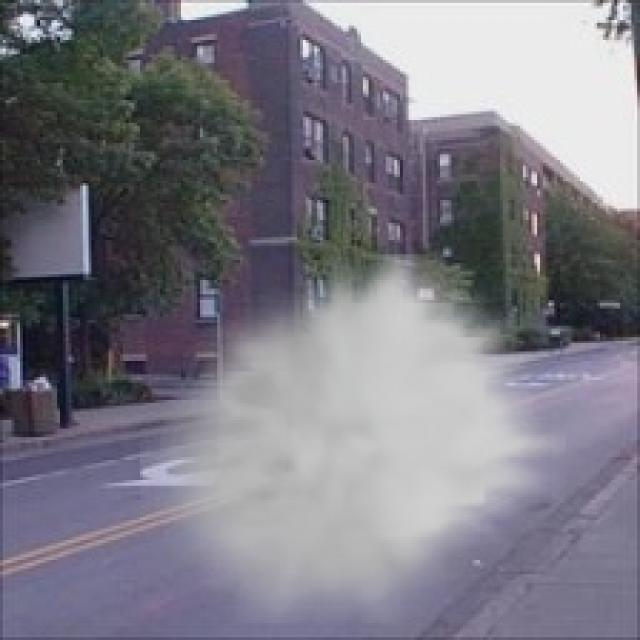Smoke: (140, 254, 566, 623)
